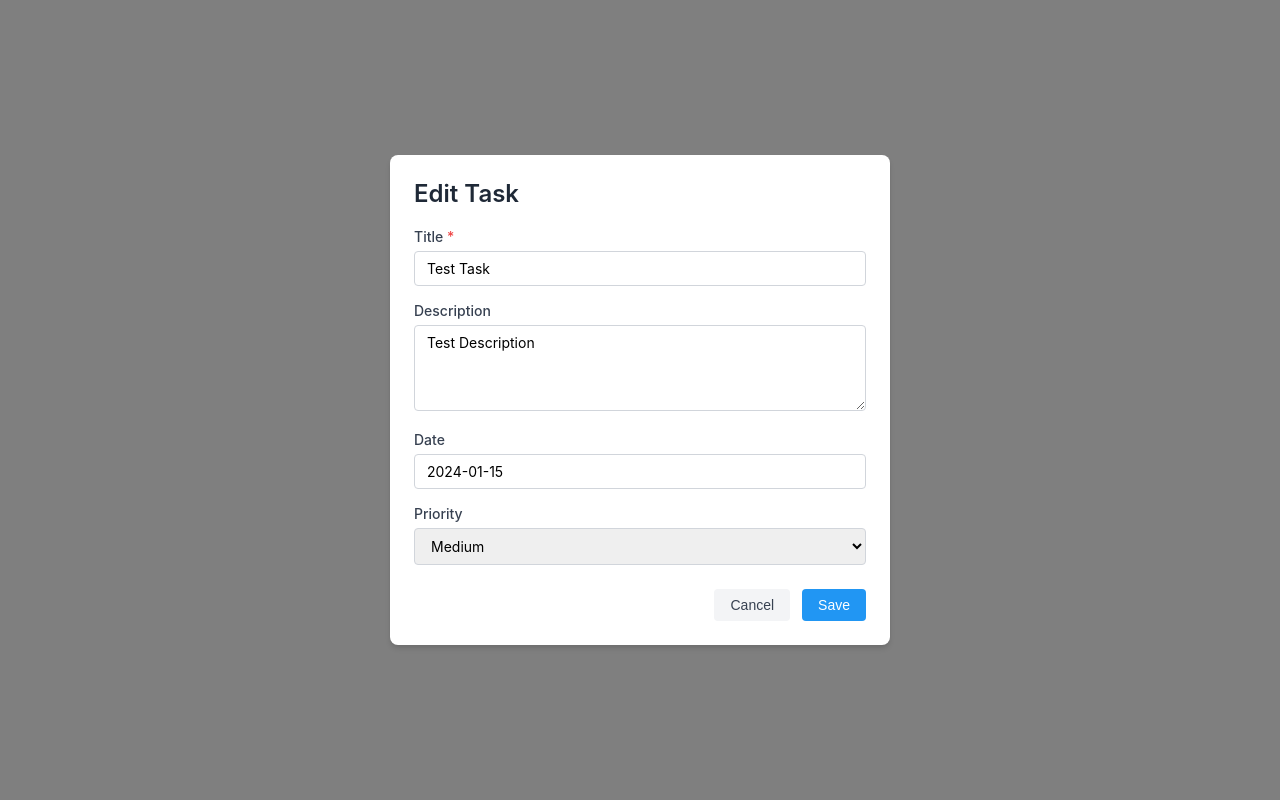
Test case: TaskEditorModal › shows error for invalid date format
Replace the text in the field with test id "task-date-input" with "01/15/2024" at [640, 472], box top-left (414, 454), bottom-right (866, 489)
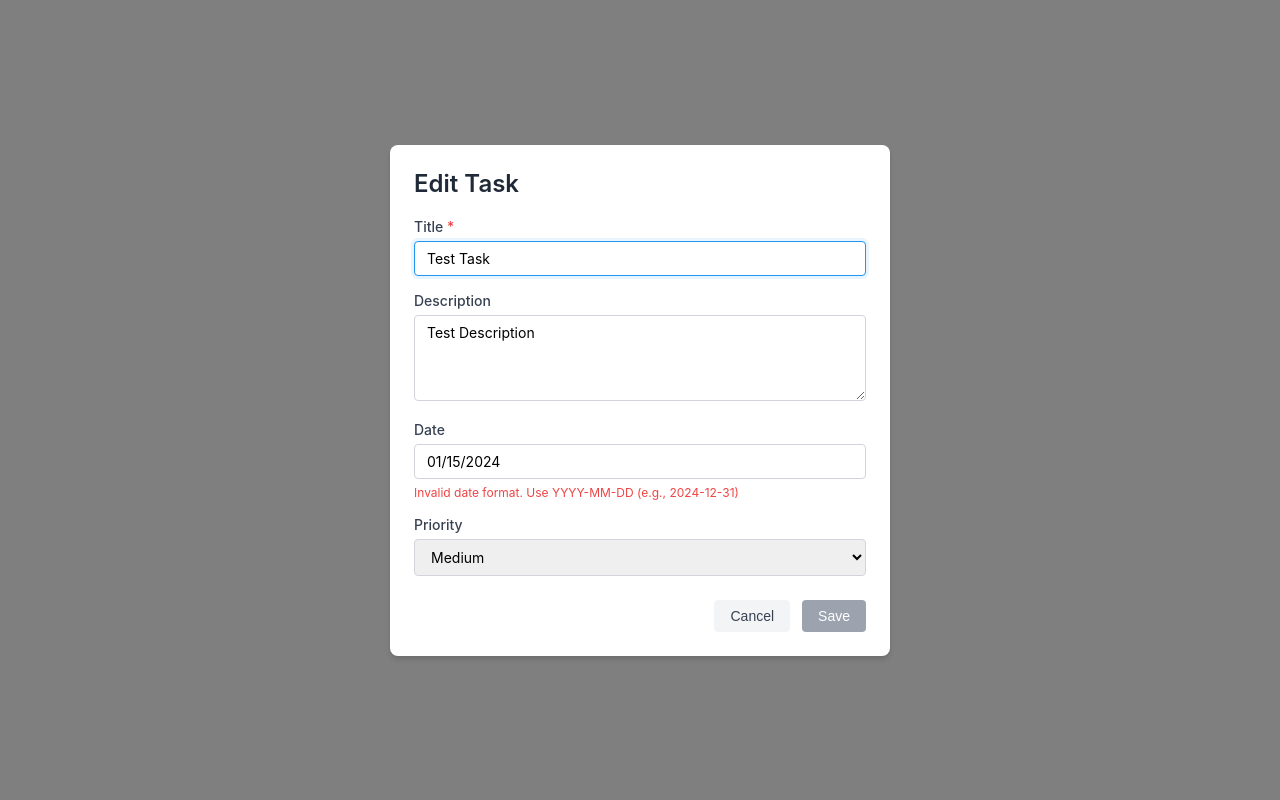
Result: the text "Invalid date format. Use YYYY-MM-DD (e.g., 2024-12-31)" is shown at top-left (414, 484), bottom-right (739, 500)
Result: the button with test id "save-button" is disabled at top-left (802, 600), bottom-right (866, 632)
